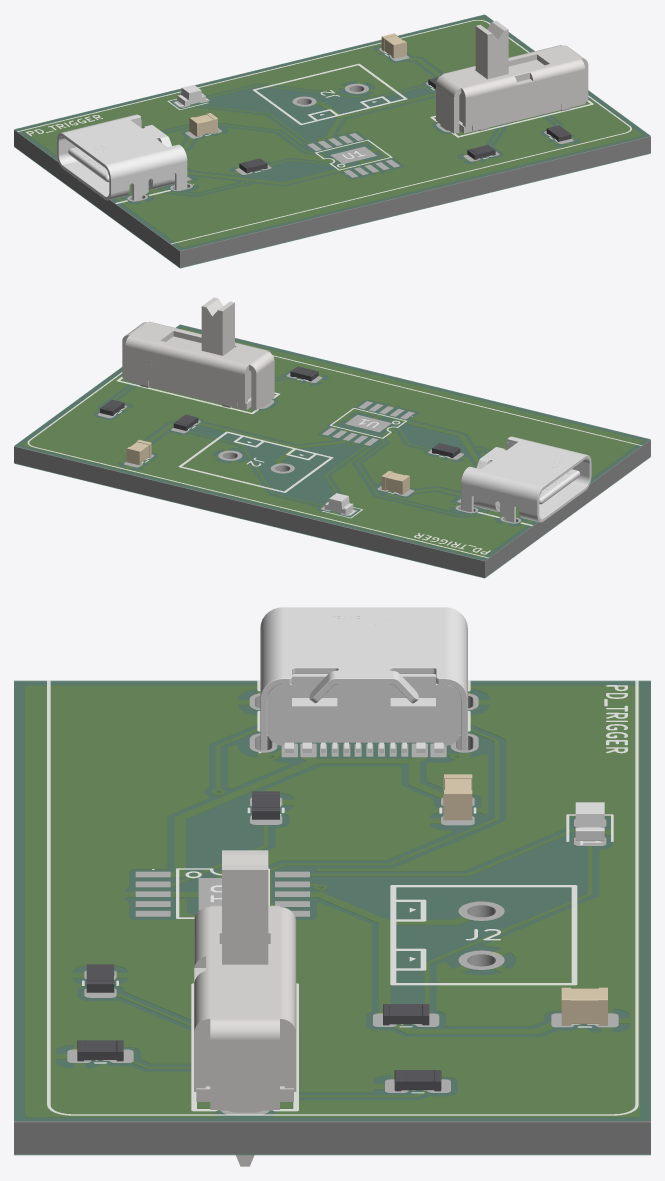
Rendered from board.glb.
3 renders of one model, top to bottom at view 1: azimuth 30°, elevation 25°; view 2: azimuth 150°, elevation 25°; view 3: azimuth 270°, elevation 25°, orthographic. The views are drawn at different scales.
Parts seen in each view (by area): view 1: =>[0:1:1:11], =>[0:1:1:7], =>[0:1:1:13], S1, J1, =>[0:1:1:10], =>[0:1:1:8], =>[0:1:1:12], C1, C2, LED1; view 2: =>[0:1:1:11], =>[0:1:1:7], =>[0:1:1:13], S1, J1, =>[0:1:1:10], =>[0:1:1:8], =>[0:1:1:12], C1, C2, LED1; view 3: =>[0:1:1:11], =>[0:1:1:7], =>[0:1:1:13], J1, S1, =>[0:1:1:10], =>[0:1:1:8], C2, C1, =>[0:1:1:12], LED1, R3 (+4 smaller).
Part boxes in pixels (x1,y1,x2,y2): =>[0:1:1:11]: [14, 14, 650, 250]; =>[0:1:1:7]: [23, 18, 641, 247]; =>[0:1:1:13]: [14, 15, 650, 267]; S1: [436, 21, 588, 133]; J1: [57, 114, 187, 200]; =>[0:1:1:10]: [17, 20, 631, 244]; =>[0:1:1:8]: [127, 48, 573, 201]; =>[0:1:1:12]: [14, 147, 650, 268]; C1: [189, 113, 217, 136]; C2: [381, 33, 406, 58]; LED1: [177, 85, 205, 106]; =>[0:1:1:11]: [14, 324, 650, 560]; =>[0:1:1:7]: [23, 328, 641, 557]; =>[0:1:1:13]: [14, 325, 650, 577]; S1: [122, 297, 274, 410]; J1: [461, 436, 591, 522]; =>[0:1:1:10]: [27, 355, 641, 557]; =>[0:1:1:8]: [97, 373, 520, 523]; =>[0:1:1:12]: [14, 457, 650, 578]; C1: [381, 471, 409, 494]; C2: [126, 439, 151, 465]; LED1: [324, 493, 353, 514]; =>[0:1:1:11]: [14, 680, 650, 1121]; =>[0:1:1:7]: [25, 686, 639, 1116]; =>[0:1:1:13]: [14, 682, 650, 1154]; J1: [260, 607, 467, 752]; S1: [194, 850, 296, 1166]; =>[0:1:1:10]: [47, 680, 638, 1115]; =>[0:1:1:8]: [67, 693, 618, 1114]; C2: [561, 987, 607, 1025]; C1: [443, 774, 472, 820]; =>[0:1:1:12]: [14, 1154, 650, 1155]; LED1: [575, 802, 604, 840]; R3: [394, 1070, 441, 1091].
Size of the model in its own units: 0.0454 by 0.0118 by 0.0274.
